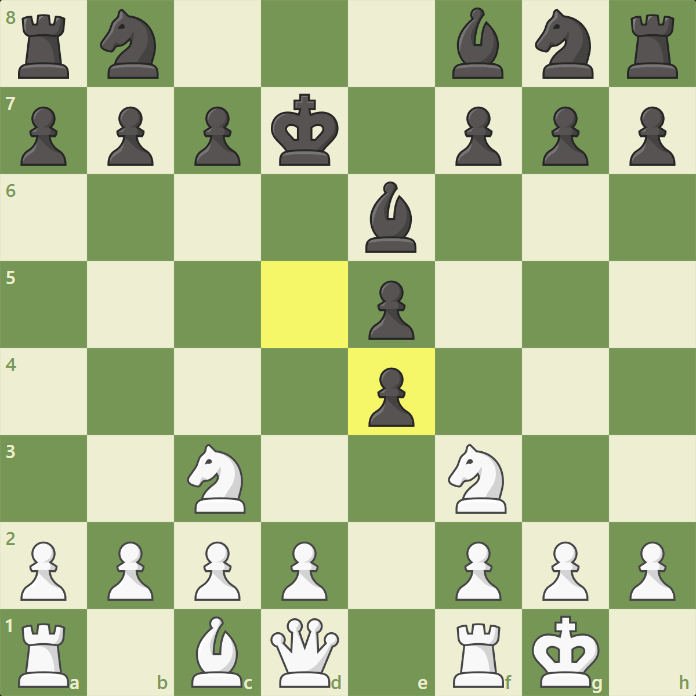B: (190, 614, 245, 691)
K: (530, 613, 602, 690)
N: (185, 443, 248, 516), (446, 443, 509, 516)
P: (628, 540, 677, 603), (540, 540, 589, 603), (453, 539, 502, 602), (278, 539, 327, 602), (192, 540, 241, 603), (105, 539, 154, 602), (18, 539, 67, 602)
Q: (268, 614, 342, 691)
R: (15, 619, 73, 691), (449, 620, 506, 691)
b: (450, 6, 506, 82), (363, 180, 418, 256)
k: (269, 92, 340, 168)
n: (533, 6, 597, 82), (98, 7, 162, 82)
p: (366, 364, 418, 430), (365, 278, 417, 344), (452, 103, 504, 169), (539, 103, 591, 169), (627, 103, 679, 169), (192, 102, 244, 168), (105, 103, 157, 169), (17, 103, 69, 169)
r: (16, 12, 71, 82), (625, 12, 680, 82)
